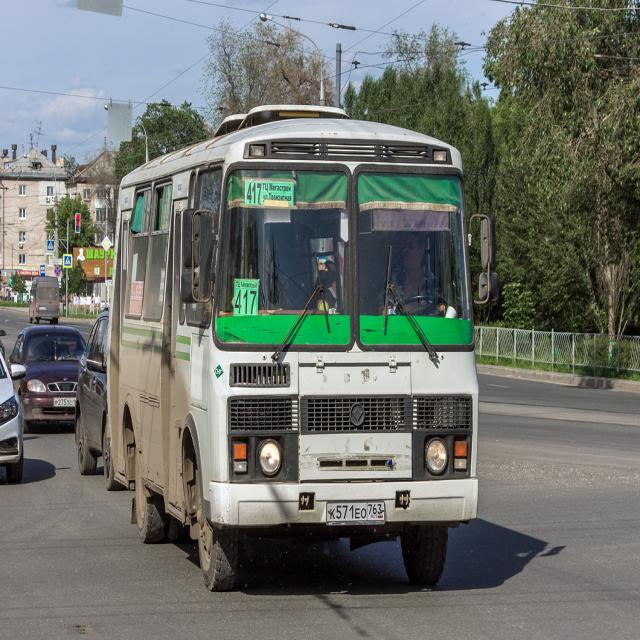number-of-bus: (236, 289, 259, 317), (247, 182, 263, 207)
